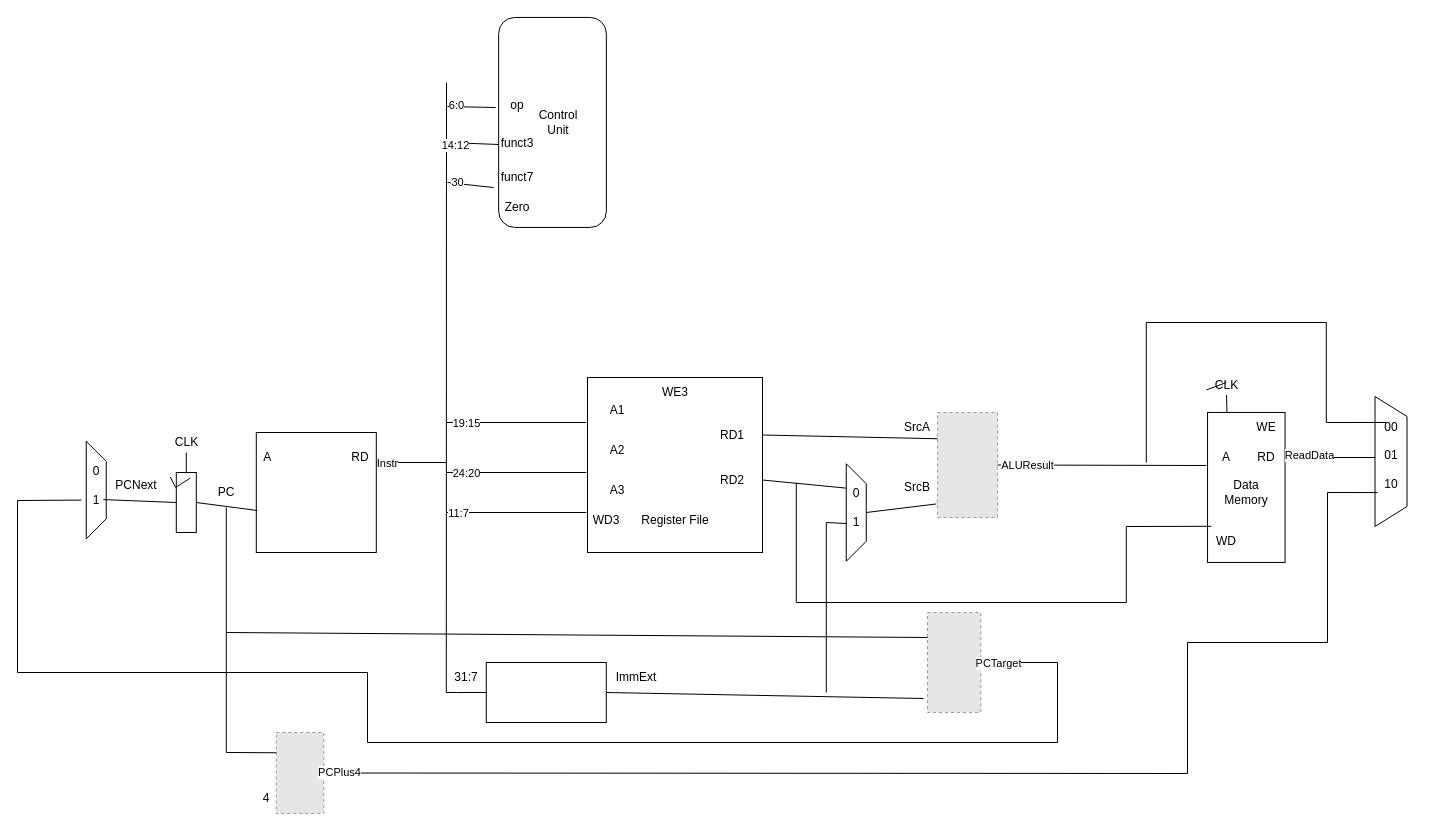
Some shapes in this 1438 by 832 pixel diagram are drawn without their labels. Grey dashed boxes stand in for pictures. The box of each missing label's shape, as (x1, y1, x2, y2) in pixels:
Extend: (485, 662, 606, 722)
Instruction Memory: (255, 432, 376, 552)
